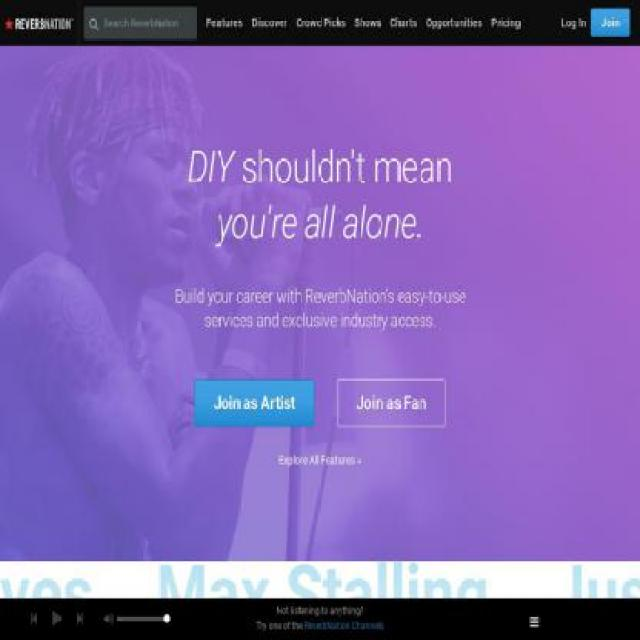button: (194, 379, 314, 427), (337, 379, 446, 427), (0, 0, 78, 44), (422, 0, 488, 46), (292, 0, 350, 46), (202, 0, 248, 46), (247, 0, 291, 46), (384, 0, 422, 46), (487, 0, 525, 46), (556, 0, 592, 45), (350, 0, 385, 46), (590, 8, 630, 37)
field: (83, 7, 197, 39)
